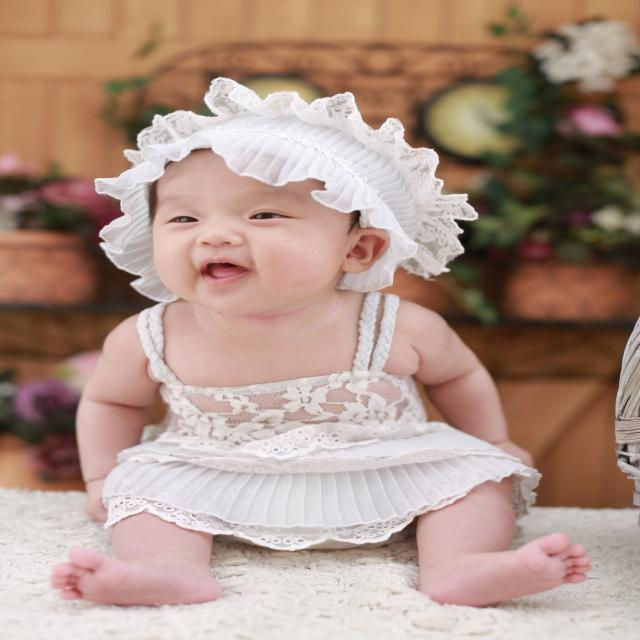non-dog: (49, 76, 592, 614)
